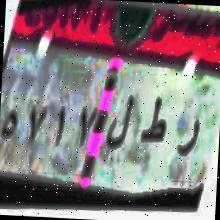1: (52, 100, 69, 152)
5: (0, 102, 19, 147)
7: (26, 102, 47, 152), (77, 98, 97, 150)
Taa: (140, 92, 168, 152)
laam: (106, 88, 133, 158)
raa: (172, 114, 202, 170)
